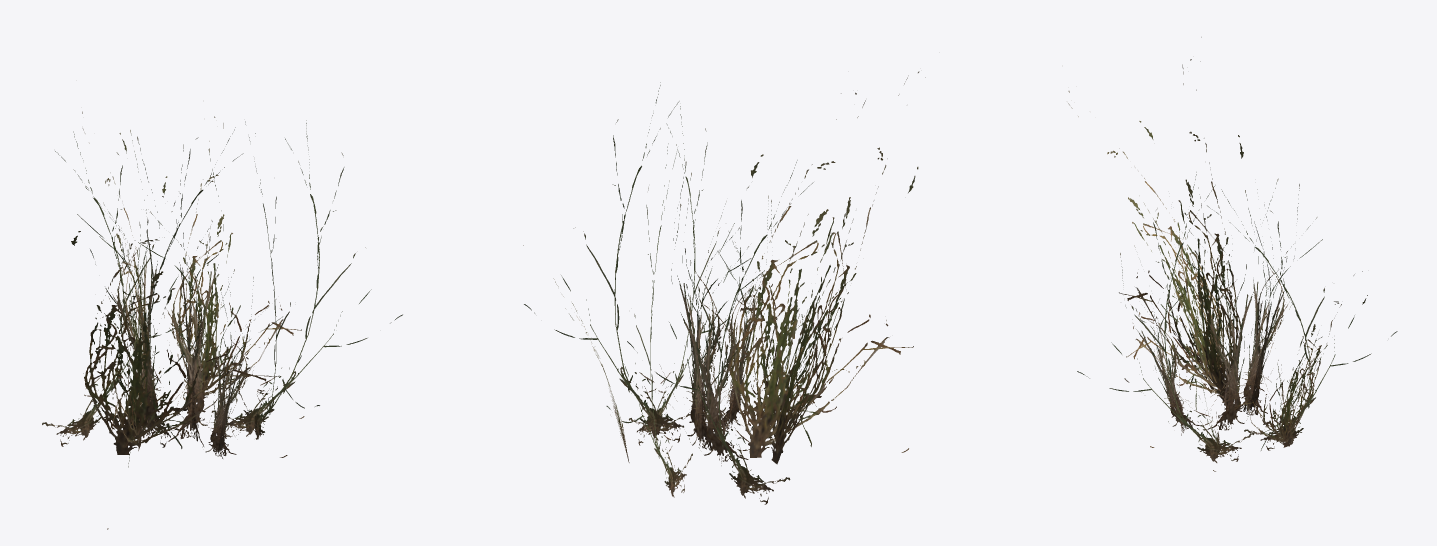
Rendered from reeds_3.FBX.
3 views of the same model, side by side, from view 1: azimuth 30°, elevation 25°; view 2: azimuth 150°, elevation 25°; view 3: azimuth 270°, elevation 25° (orthographic). The views are drawn at different scales.
Visible parts, largest first — view 1: reeds_3; view 2: reeds_3; view 3: reeds_3.
Boxes of the visible parts, x1,y1,x2,y2 form: reeds_3: [42, 111, 402, 529]; reeds_3: [523, 71, 925, 504]; reeds_3: [1068, 37, 1397, 471].
Bounding box in the file's own units: 102 × 108 × 97.85.
Materials: 1 (1 with a texture image).
